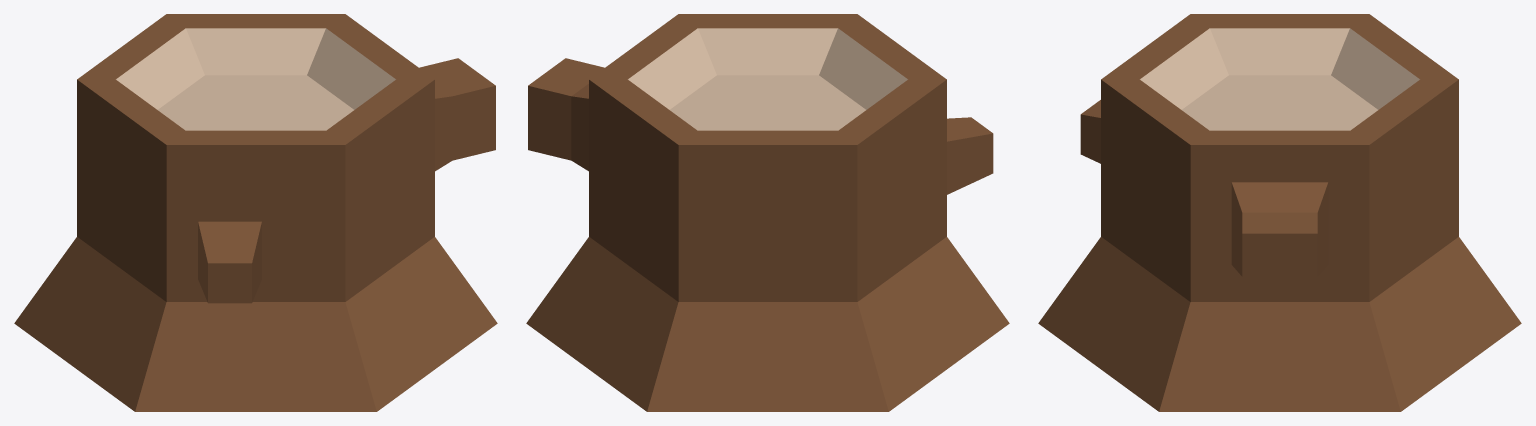
The model's file is stump_roundDetailed.glb.
The picture shows the model from 3 angles, left to right: view 1: azimuth 30°, elevation 25°; view 2: azimuth 150°, elevation 25°; view 3: azimuth 270°, elevation 25°; orthographic projection.
Visible parts, largest first — view 1: stump_roundDetailed; view 2: stump_roundDetailed; view 3: stump_roundDetailed.
Part boxes in pixels (x1,y1,x2,y2): stump_roundDetailed: (14, 14, 497, 411); stump_roundDetailed: (526, 14, 1009, 411); stump_roundDetailed: (1038, 14, 1521, 411).
Size of the model in its own units: 0.3565 by 0.2065 by 0.371.
